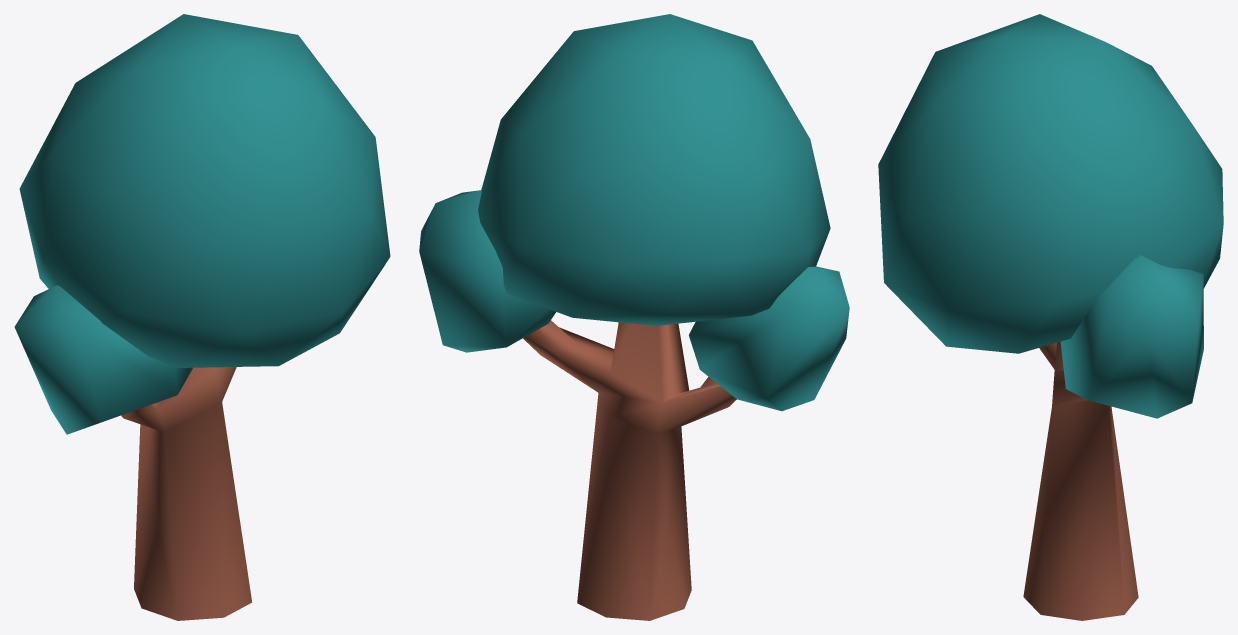
File: tree-c.glb
3 views of the same model, side by side, from view 1: azimuth 30°, elevation 25°; view 2: azimuth 150°, elevation 25°; view 3: azimuth 270°, elevation 25° (orthographic). The views are drawn at different scales.
Visible parts, largest first — view 1: detail_treeC; view 2: detail_treeC; view 3: detail_treeC.
Boxes of the visible parts, box(x1,y1,x2,y2) form: detail_treeC: box(14, 14, 390, 620); detail_treeC: box(419, 14, 849, 620); detail_treeC: box(878, 14, 1223, 620).
Size of the model in its own units: 0.5356 by 0.7574 by 0.4217.
